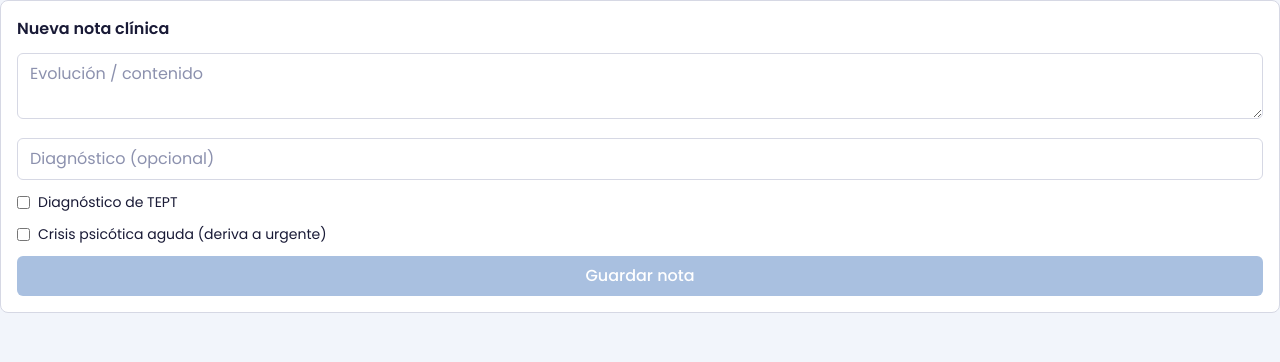
NoteForm (RF-4.3 mirror) › warns and blocks a TEPT diagnosis before the 4-week window
This screenshot has width=1280, height=362.
In the text box with placeholder "Evolución / contenido": (640, 86) [17,53,1263,119], type "sesión"
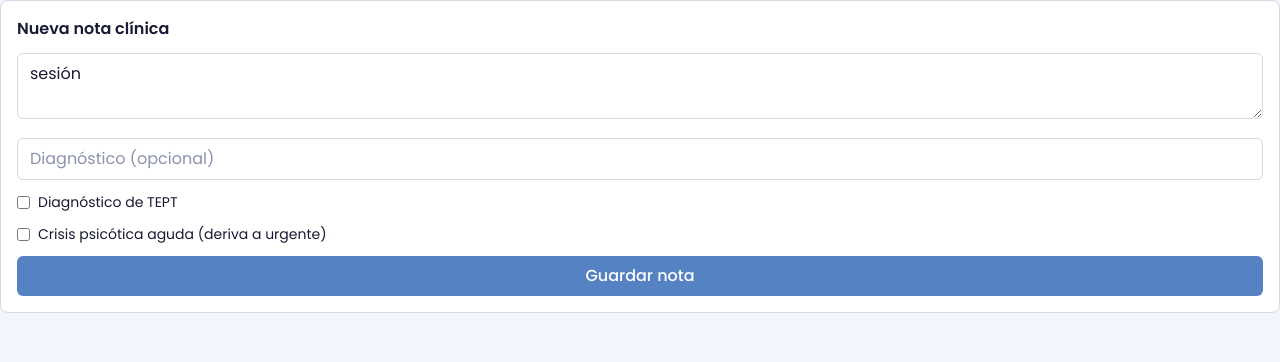
Click the checkbox labelled "Diagnóstico de TEPT": (24, 202) [17,196,30,208]
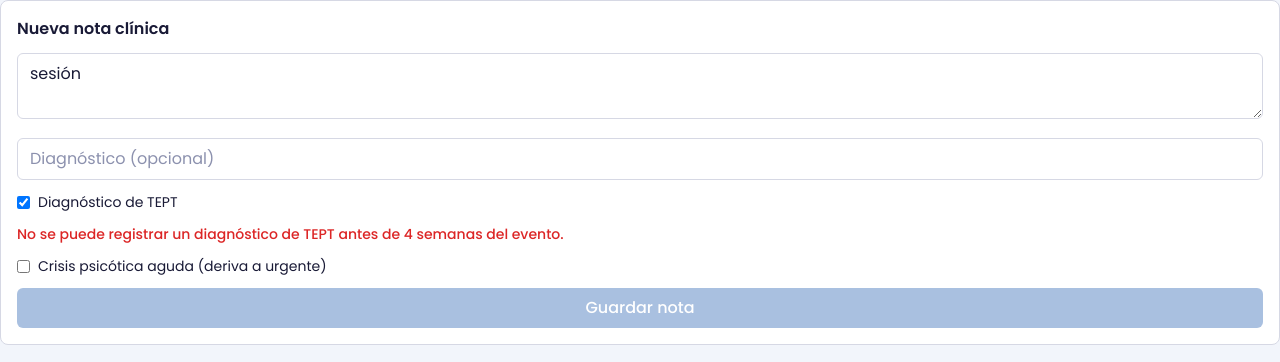
Expected: the message "No se puede registrar un diagnóstico de TEPT antes de 4 semanas del evento." is shown, [17,224,564,244]
Expected: the button "Guardar nota" is disabled, [17,288,1263,328]
